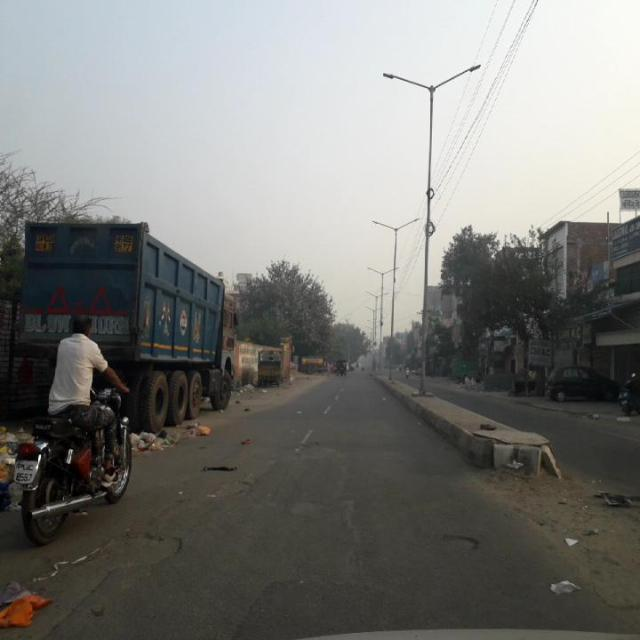D40: (71, 526, 183, 576), (430, 519, 491, 561), (210, 469, 270, 511)
